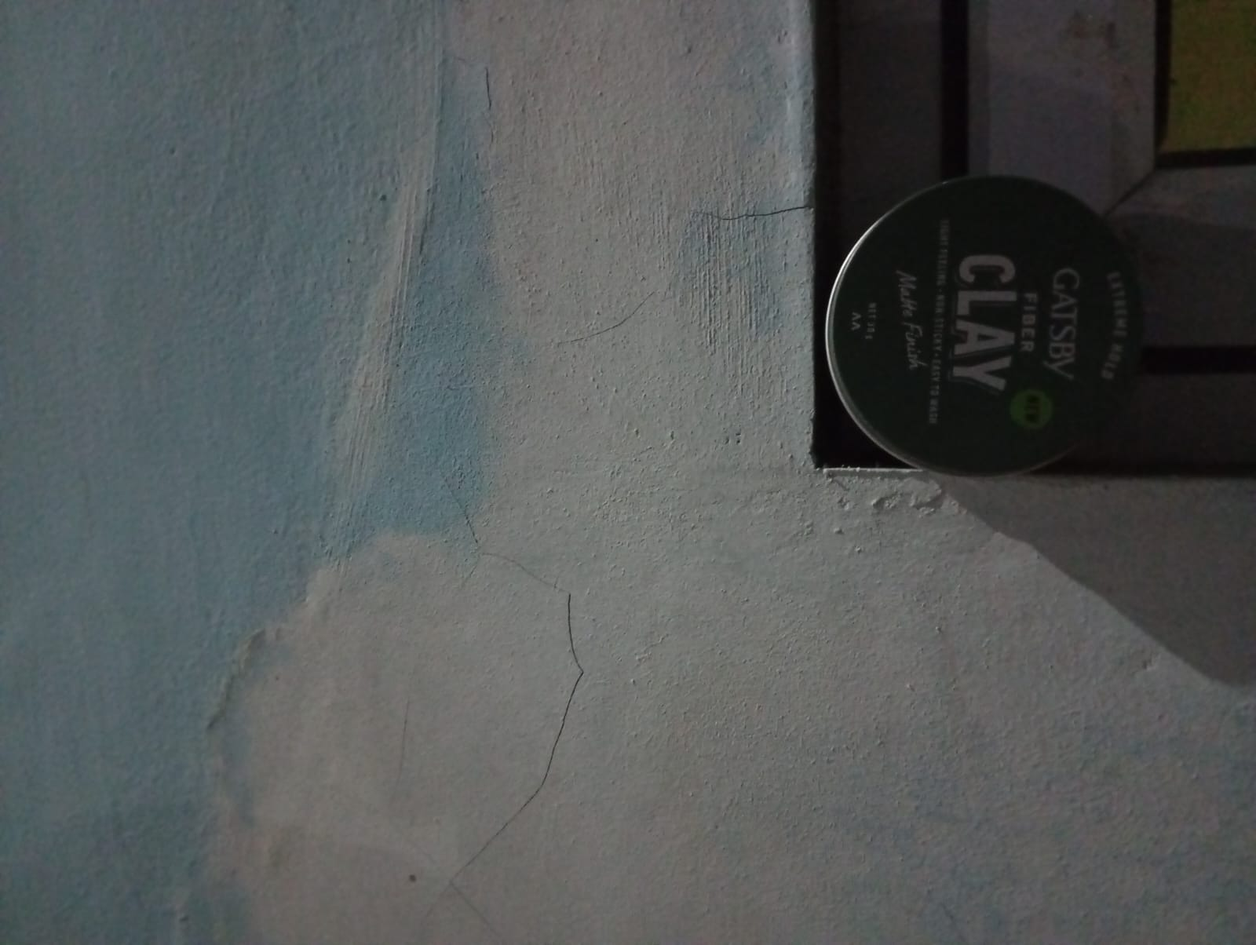Minyak_Rambut: (859, 88, 1256, 432)
